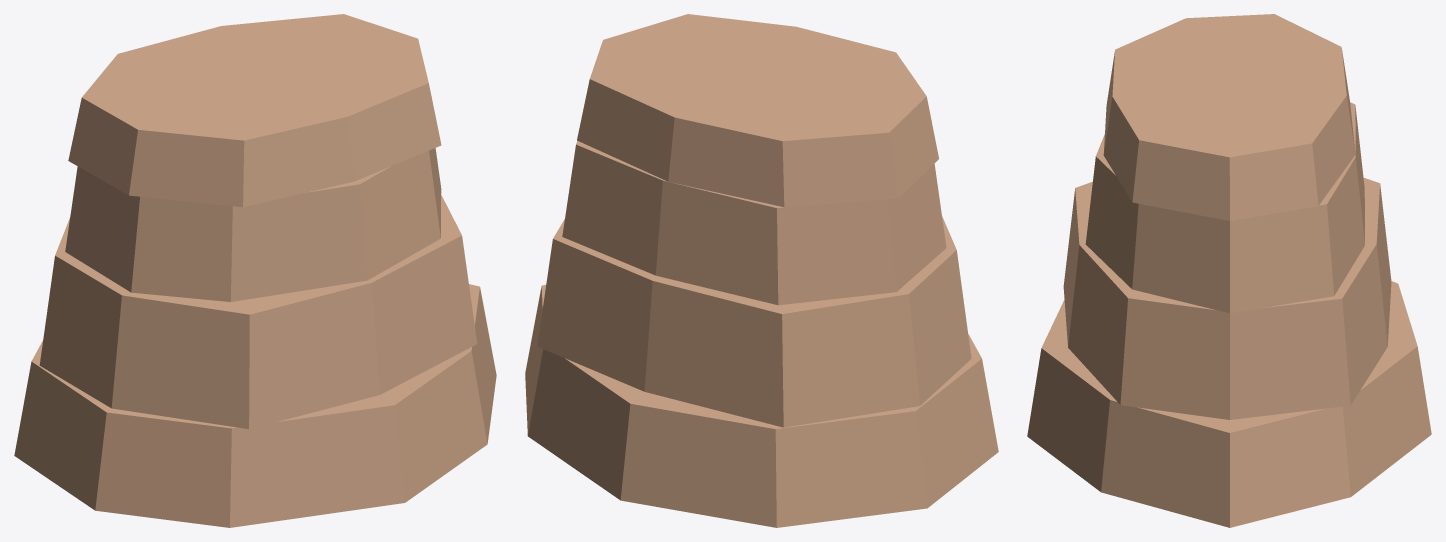
File: SM_Rock_Mesa.glb
3 renders of one model, left to right at view 1: azimuth 30°, elevation 25°; view 2: azimuth 150°, elevation 25°; view 3: azimuth 270°, elevation 25°, orthographic. The views are drawn at different scales.
Parts seen in each view (by area): view 1: SM_Rock_Mesa; view 2: SM_Rock_Mesa; view 3: SM_Rock_Mesa.
Boxes of the visible parts, <box> form: SM_Rock_Mesa: <box>14,14,496,527</box>; SM_Rock_Mesa: <box>525,14,998,527</box>; SM_Rock_Mesa: <box>1027,14,1431,527</box>.
Size of the model in its own units: 6.01 by 4.6 by 5.04.
